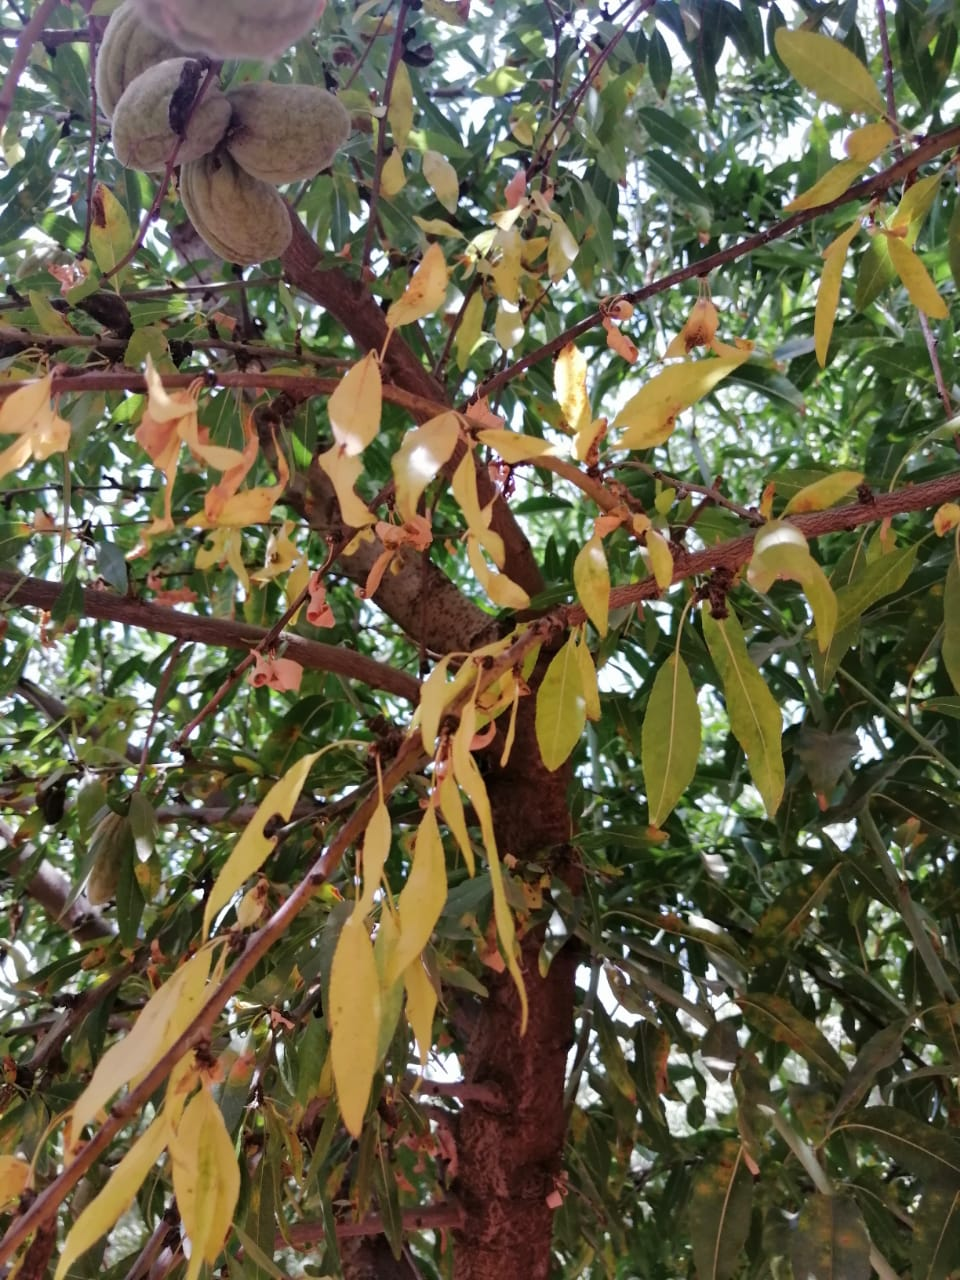chancre fusicocum: (49, 621, 560, 1279), (507, 88, 960, 394), (1, 344, 638, 537), (561, 467, 960, 641)
